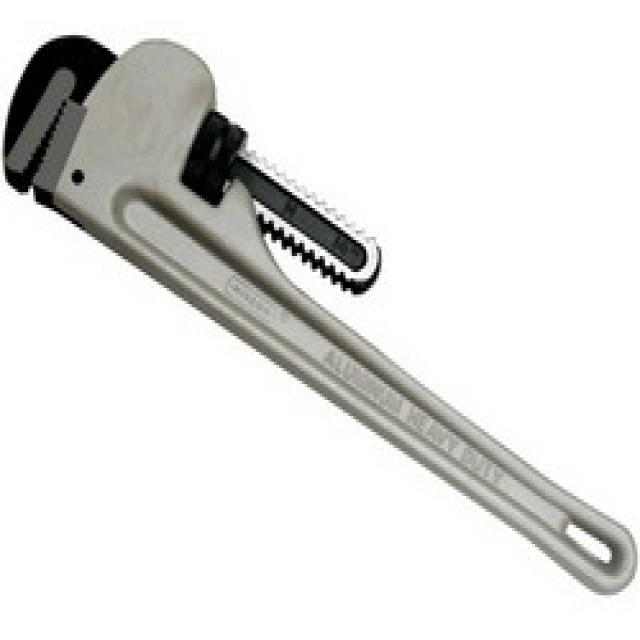wrench: (4, 36, 635, 593)
